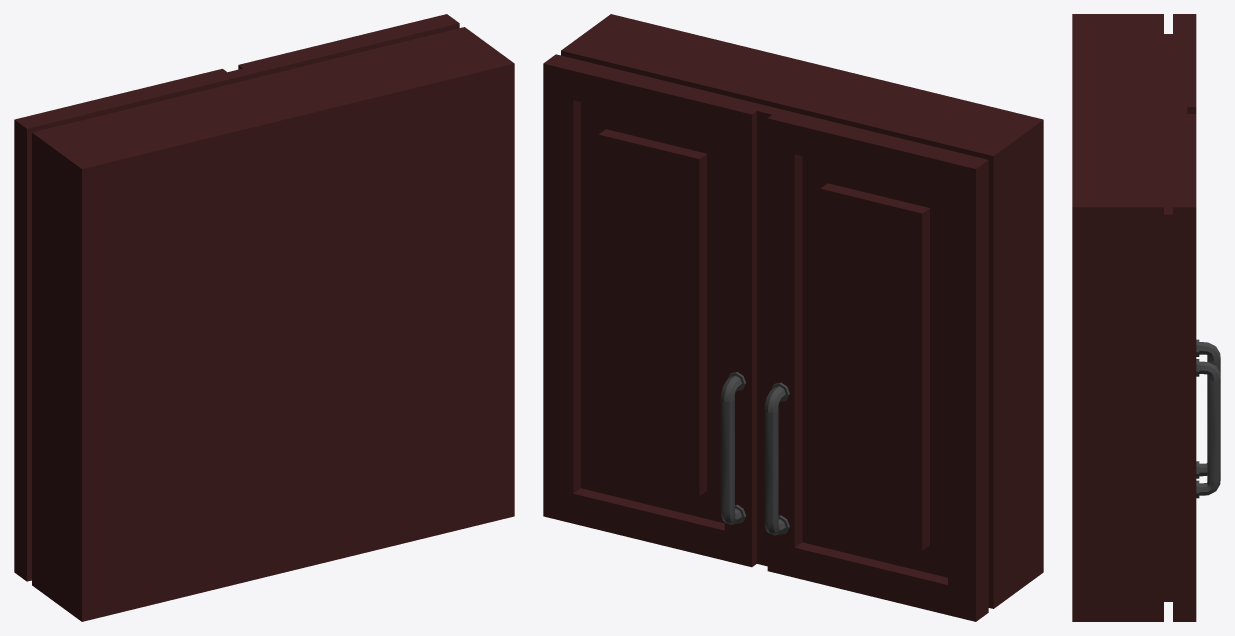
The model's file is cabinet washrooms.glb.
3 renders of one model, left to right at view 1: azimuth 30°, elevation 25°; view 2: azimuth 150°, elevation 25°; view 3: azimuth 270°, elevation 25°, orthographic. The views are drawn at different scales.
Visible parts, largest first — view 1: Object_3; view 2: Object_3, Object_4, Object_5; view 3: Object_3, Object_4, Object_5.
Part boxes in pixels (x1,y1,x2,y2): Object_3: (14, 14, 514, 621); Object_3: (543, 14, 1043, 621); Object_4: (720, 399, 778, 523); Object_5: (720, 372, 789, 535); Object_3: (1072, 14, 1196, 621); Object_4: (1207, 359, 1220, 481); Object_5: (1196, 339, 1220, 498).
Bounding box in the file's own units: 0.4205 × 0.4205 × 0.1364.
